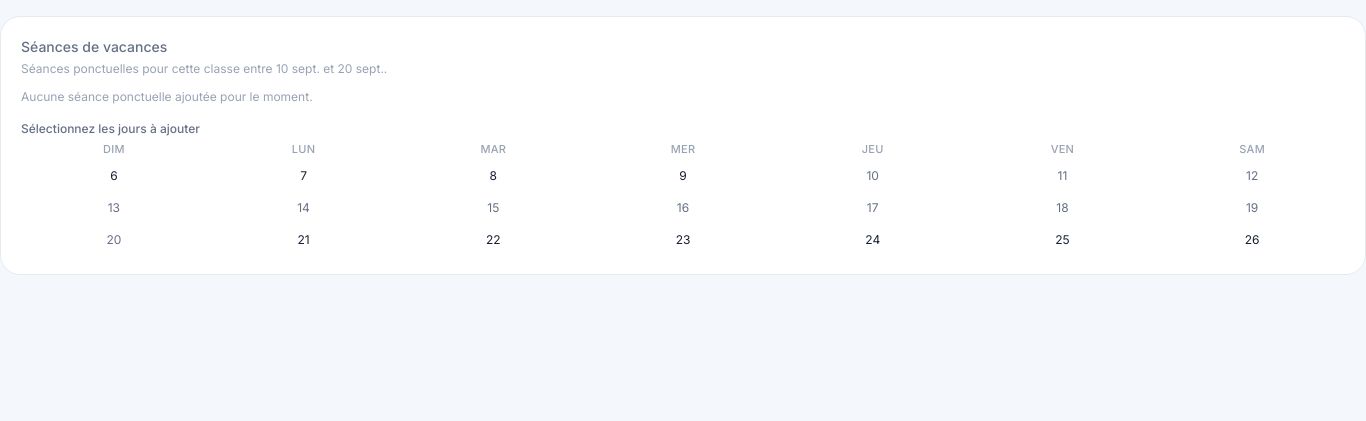
VacationSessionsPanel › submits all drafted sessions in one batch and clears the draft list on success
Click the button named "10 septembre": (873,176) [780, 162, 966, 190]
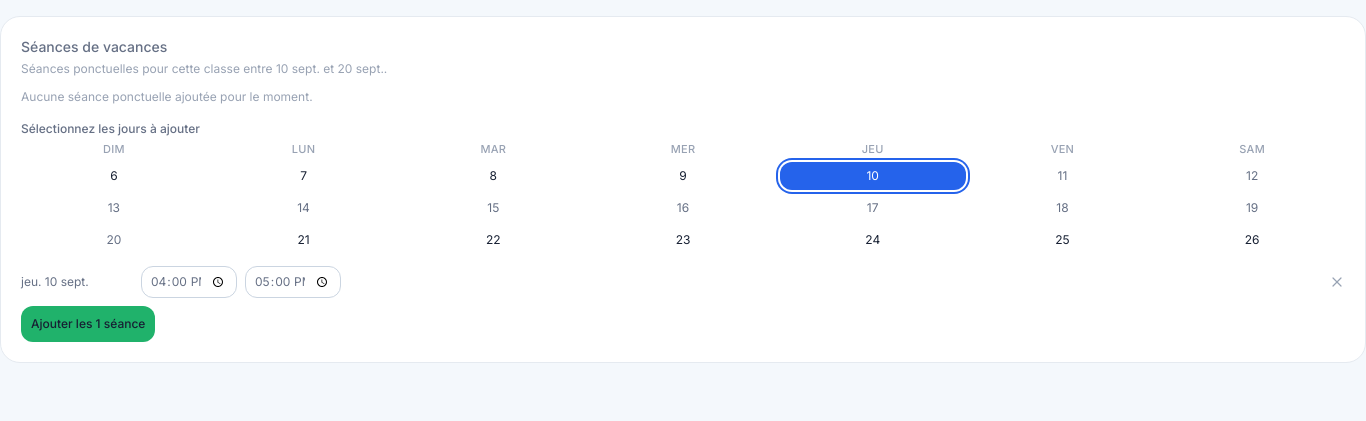
Click the button named "11 septembre": (1062,176) [970, 162, 1155, 190]
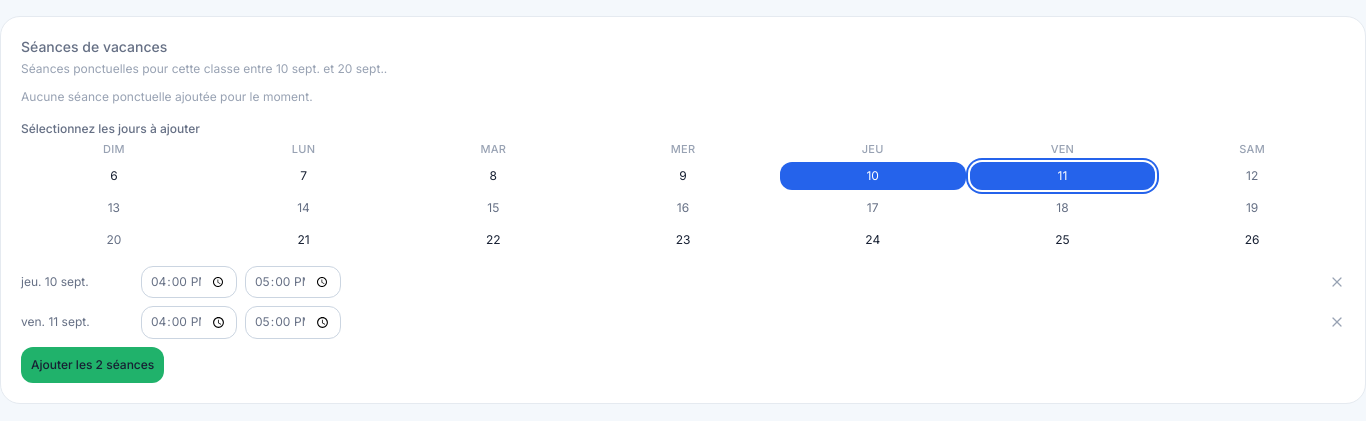
Click the button "Ajouter les 2 séances": (93,365) [21, 347, 164, 383]
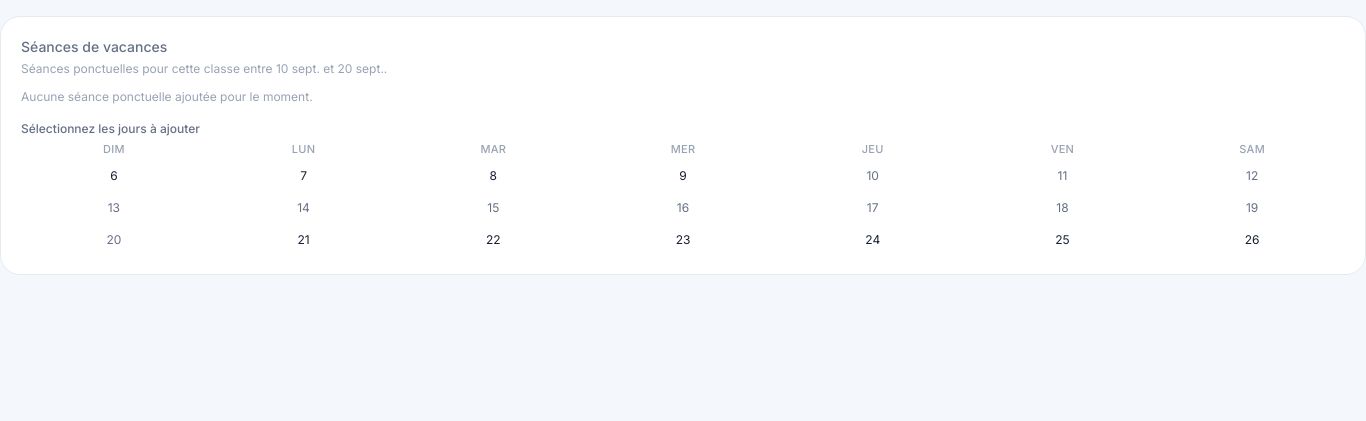
Result: the button "Ajouter les 2 séances" is gone
